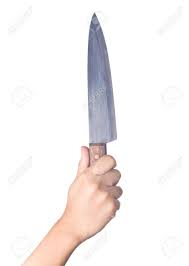knife: (85, 10, 121, 214)
